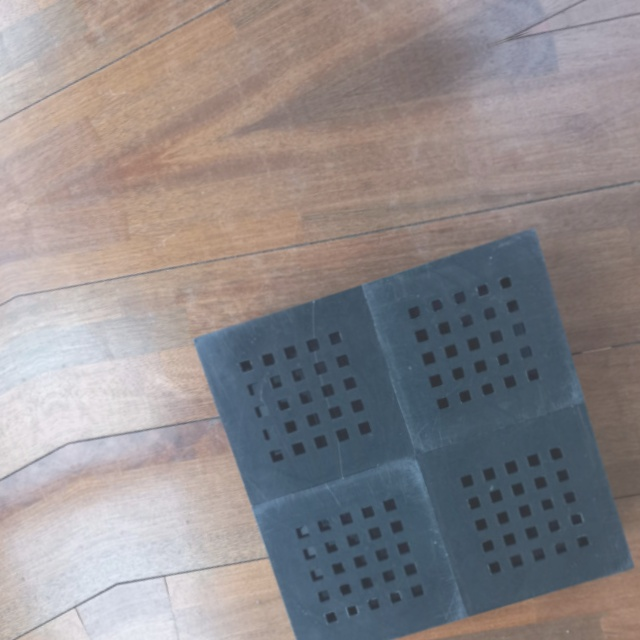pallet: (190, 221, 634, 637)
